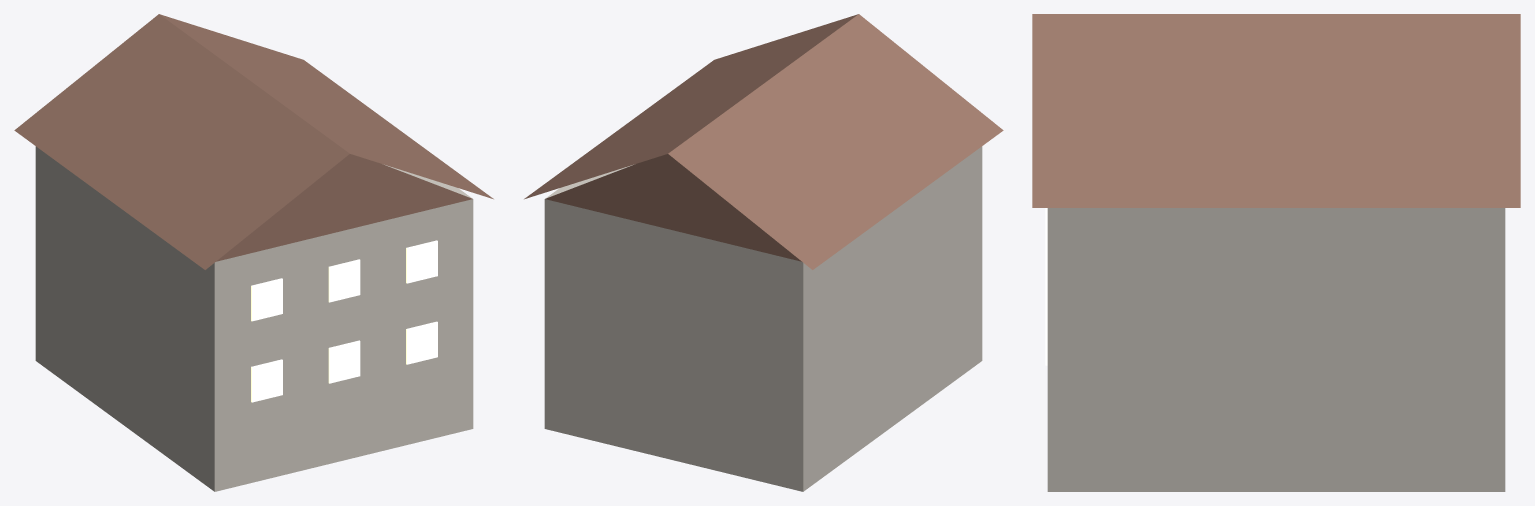
The model's file is house.glb.
3 views of the same model, side by side, from view 1: azimuth 30°, elevation 25°; view 2: azimuth 150°, elevation 25°; view 3: azimuth 270°, elevation 25° (orthographic). The views are drawn at different scales.
Parts seen in each view (by area): view 1: house; view 2: house; view 3: house.
Part boxes in pixels (x1,y1,x2,y2): house: (14, 14, 493, 491); house: (524, 14, 1003, 491); house: (1032, 14, 1520, 491).
Bounding box in the file's own units: 11.2 × 11.5 × 12.8.
